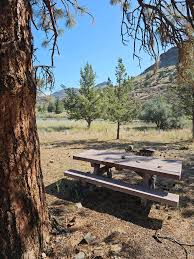obstacle: (62, 145, 183, 220)
